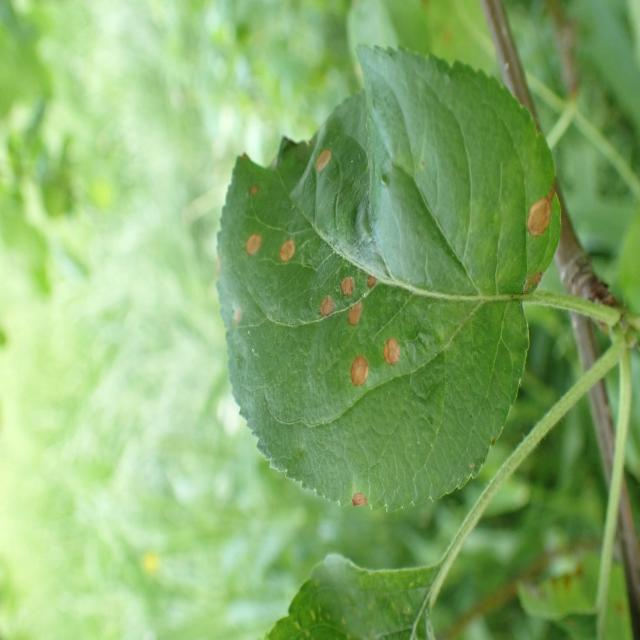frog-eye-leaf-spot: (216, 41, 562, 513)
